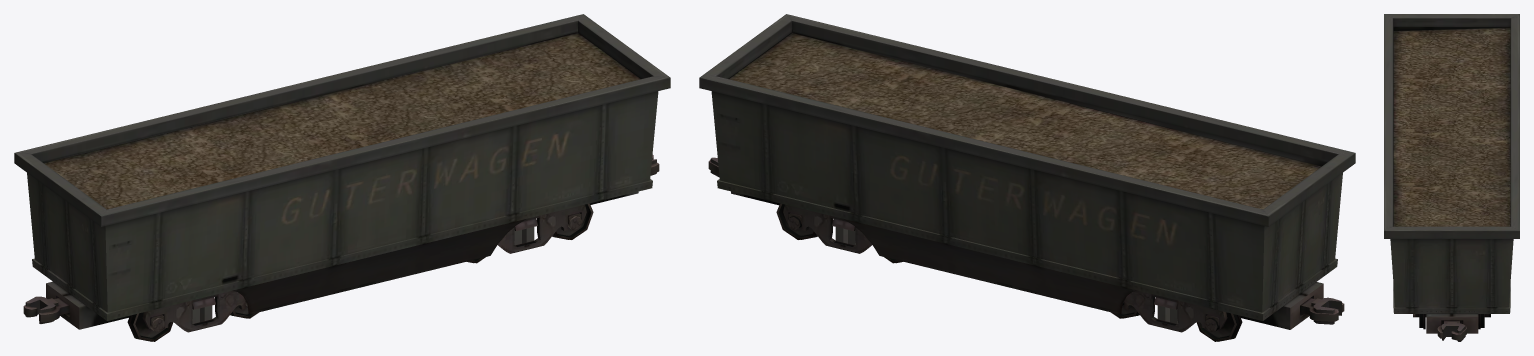
3 renders of one model, left to right at view 1: azimuth 30°, elevation 25°; view 2: azimuth 150°, elevation 25°; view 3: azimuth 270°, elevation 25°, orthographic. The views are drawn at different scales.
Parts seen in each view (by area): view 1: body0_model0_lod0_mesh0; view 2: body0_model0_lod0_mesh0; view 3: body0_model0_lod0_mesh0.
Boxes of the visible parts, x1,y1,x2,y2 form: body0_model0_lod0_mesh0: (14,14,670,341); body0_model0_lod0_mesh0: (699,14,1355,341); body0_model0_lod0_mesh0: (1384,14,1519,341).
Size of the model in its own units: 37.52 by 9.27 by 9.
1 material, 1 textured.
